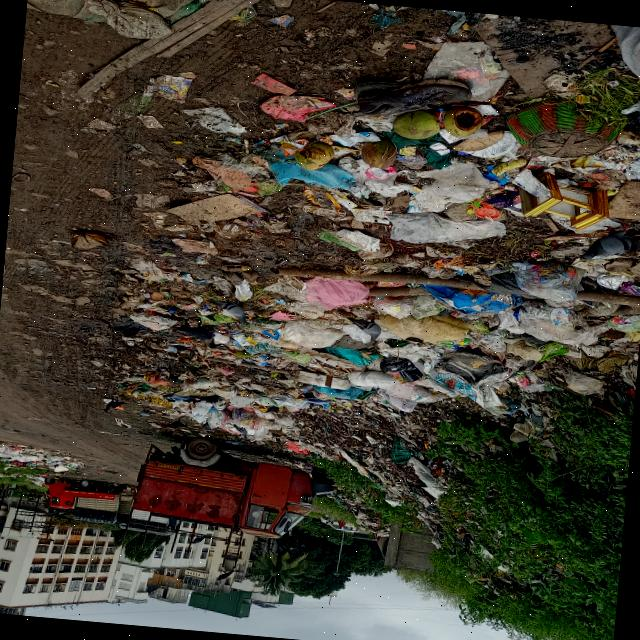garbage: (141, 13, 640, 419), (312, 399, 489, 556), (128, 376, 308, 452), (322, 489, 389, 540)
